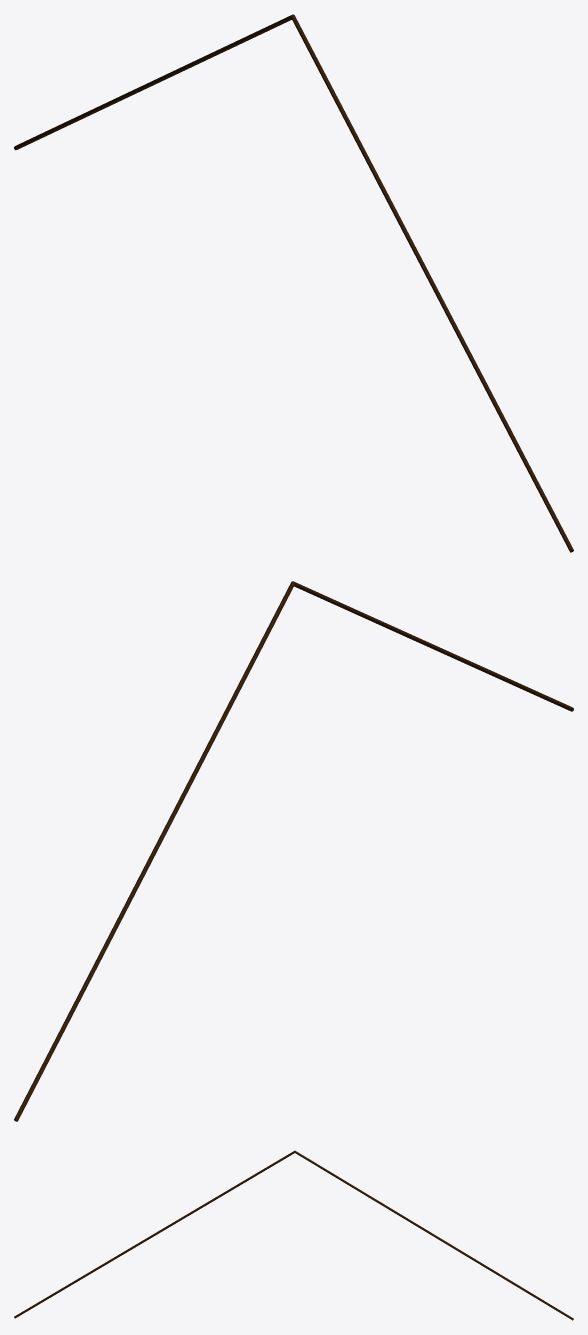
The model's file is CuerdaBarco.fbx.
The picture shows the model from 3 angles, top to bottom: view 1: azimuth 30°, elevation 25°; view 2: azimuth 150°, elevation 25°; view 3: azimuth 270°, elevation 25°; orthographic projection. The views are drawn at different scales.
Visible parts, largest first — view 1: Cuerda; view 2: Cuerda; view 3: Cuerda.
Boxes of the visible parts, bbox=[...] form: Cuerda: bbox=[14, 14, 573, 552]; Cuerda: bbox=[14, 581, 573, 1121]; Cuerda: bbox=[14, 1150, 573, 1320].
Bounding box in the file's own units: 0.2827 × 23.65 × 70.66.
